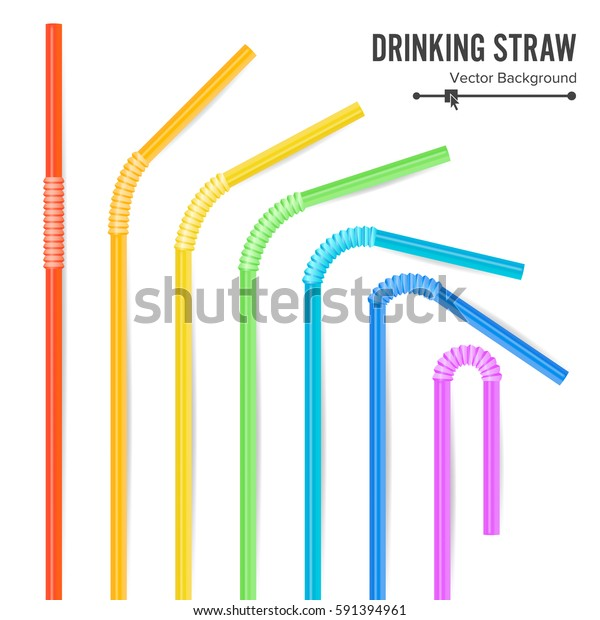Drinking Straw: (431, 342, 506, 606), (40, 20, 72, 606)
